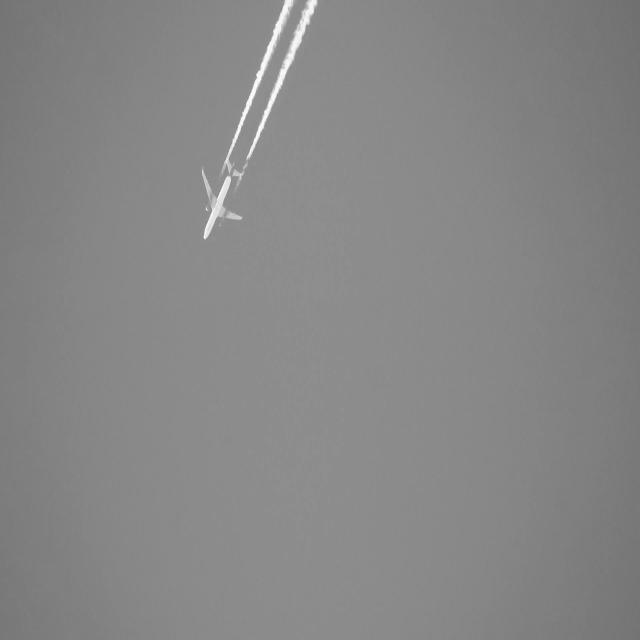aeroplane: (195, 150, 247, 245)
